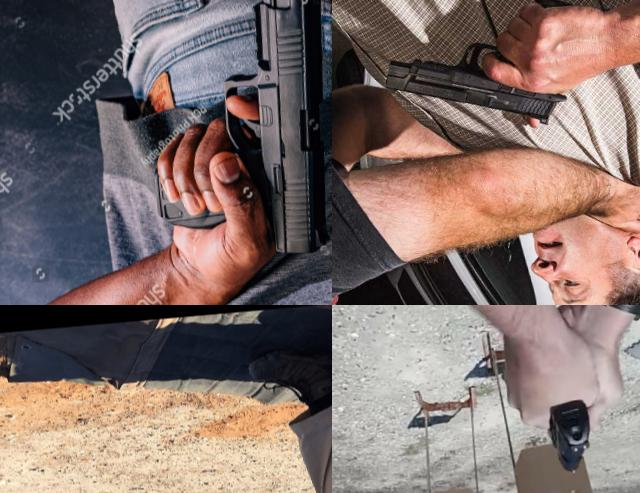handgun: (132, 0, 332, 271), (374, 0, 593, 142), (539, 390, 596, 478)
